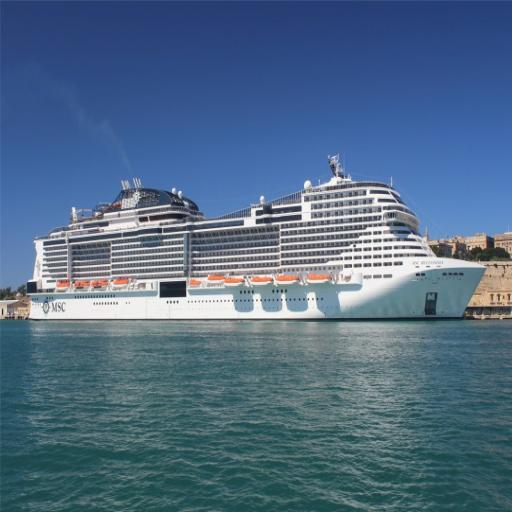cruises: (28, 148, 493, 336)
